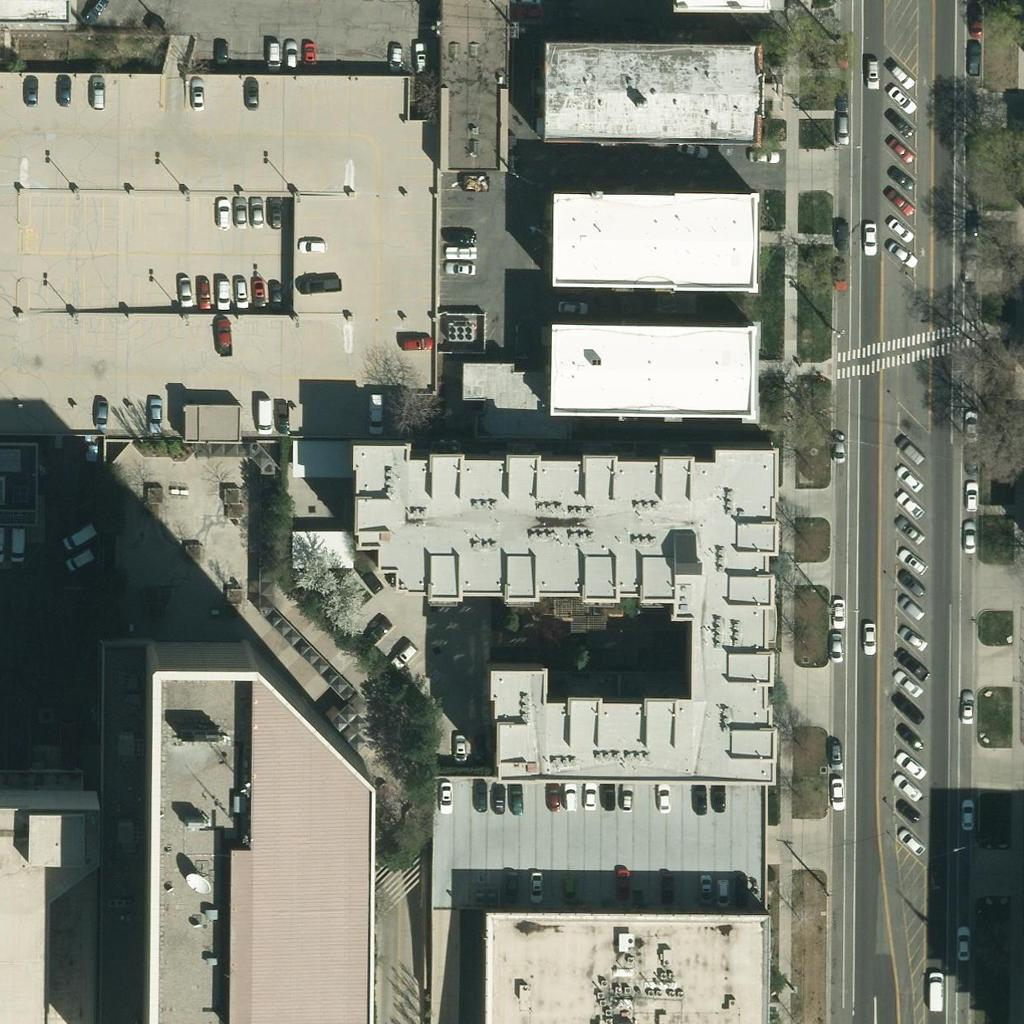car: (824, 30, 858, 64), (204, 34, 238, 68), (955, 37, 989, 71), (256, 39, 290, 73), (274, 39, 308, 73), (291, 39, 325, 73), (403, 39, 437, 73), (378, 42, 412, 76), (855, 56, 889, 90), (882, 57, 916, 91), (47, 74, 81, 108), (235, 76, 269, 110), (13, 77, 47, 111), (824, 77, 858, 111), (80, 78, 114, 112), (178, 79, 212, 113), (884, 80, 918, 114), (883, 82, 917, 116), (879, 104, 913, 138), (825, 109, 859, 143), (672, 130, 706, 164), (882, 132, 916, 166), (745, 138, 779, 172), (883, 160, 917, 194), (881, 184, 915, 218), (222, 195, 256, 229), (239, 196, 273, 230), (207, 199, 241, 233), (259, 199, 293, 233), (953, 207, 987, 241), (882, 212, 916, 246), (825, 217, 859, 251), (852, 218, 886, 252), (442, 219, 476, 253), (296, 228, 330, 262), (444, 235, 478, 269), (884, 238, 918, 272), (951, 246, 985, 280), (445, 249, 479, 283), (822, 255, 856, 289), (297, 271, 331, 305), (167, 273, 201, 307), (241, 274, 275, 308), (224, 276, 258, 310), (185, 277, 219, 311), (205, 277, 239, 311), (259, 277, 293, 311), (552, 289, 586, 323), (207, 318, 241, 352), (208, 323, 242, 357), (399, 327, 433, 361), (82, 397, 116, 431), (136, 397, 170, 431), (360, 397, 394, 431), (246, 402, 280, 436), (265, 402, 299, 436), (953, 409, 987, 443), (820, 430, 854, 464), (893, 433, 927, 467), (951, 438, 985, 472), (891, 462, 925, 496), (953, 480, 987, 514), (891, 488, 925, 522), (893, 514, 927, 548), (951, 520, 985, 554), (59, 521, 93, 555), (62, 542, 96, 576), (895, 544, 929, 578), (350, 558, 384, 592), (894, 568, 928, 602), (892, 590, 926, 624), (820, 595, 854, 629), (359, 615, 393, 649), (852, 619, 886, 653), (895, 622, 929, 656), (817, 630, 851, 664), (387, 638, 421, 672), (894, 645, 928, 679), (890, 667, 924, 701), (950, 689, 984, 723), (893, 692, 927, 726), (895, 721, 929, 755), (442, 731, 476, 765), (818, 737, 852, 771), (894, 749, 928, 783), (891, 772, 925, 806), (819, 775, 853, 809), (427, 779, 461, 813), (591, 780, 625, 814), (536, 781, 570, 815), (571, 781, 605, 815), (463, 782, 497, 816), (480, 782, 514, 816), (498, 782, 532, 816), (609, 782, 643, 816), (646, 782, 680, 816), (701, 782, 735, 816), (552, 783, 586, 817), (684, 785, 718, 819), (893, 795, 927, 829), (949, 798, 983, 832), (894, 826, 928, 860), (606, 867, 640, 901), (518, 869, 552, 903), (494, 870, 528, 904), (650, 870, 684, 904), (688, 872, 722, 906), (550, 873, 584, 907), (705, 874, 739, 908), (725, 874, 759, 908), (945, 927, 979, 961), (918, 972, 952, 1006), (957, 0, 991, 32), (0, 529, 32, 563), (509, 0, 543, 27), (81, 0, 115, 23)
